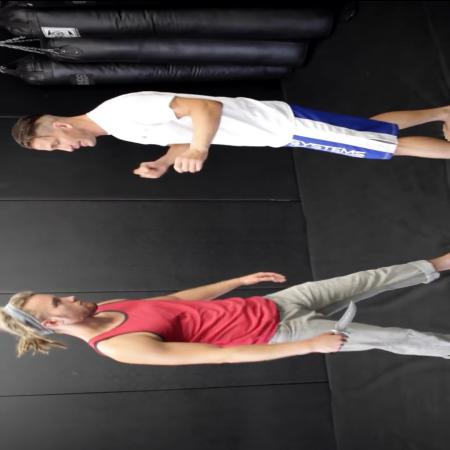long weapon: (316, 296, 365, 356)
